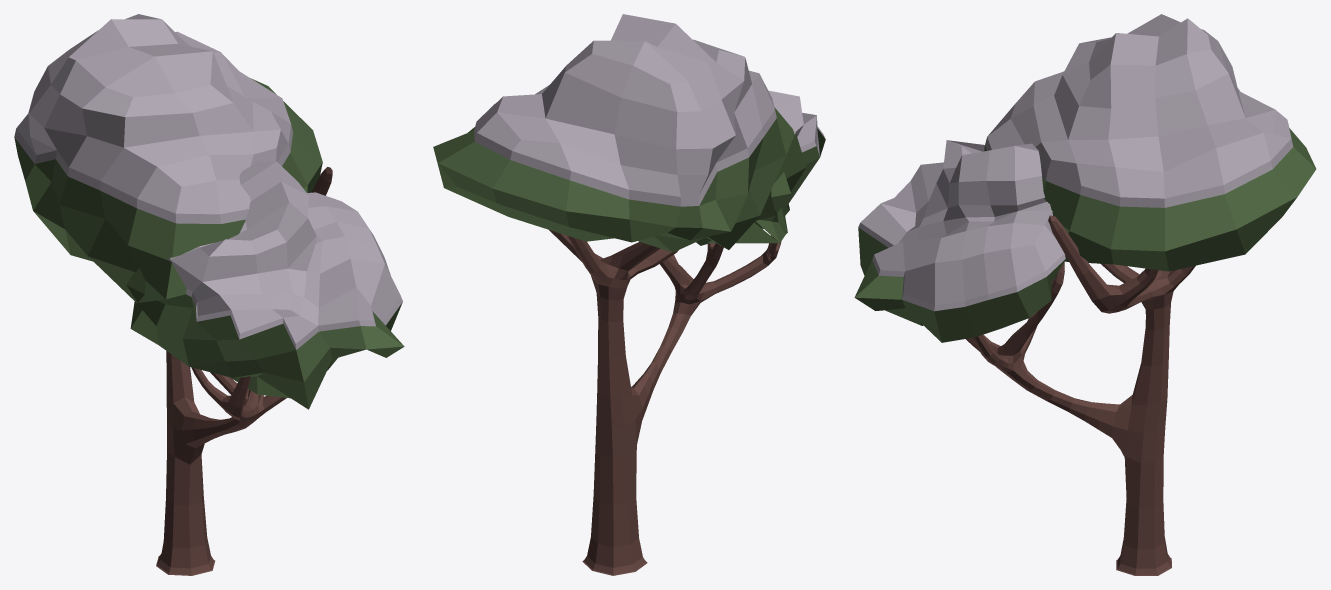
File: CommonTree_Snow_2.glb
The picture shows the model from 3 angles, left to right: view 1: azimuth 30°, elevation 25°; view 2: azimuth 150°, elevation 25°; view 3: azimuth 270°, elevation 25°; orthographic projection. The views are drawn at different scales.
Visible parts, largest first — view 1: CommonTree_Snow_2_Cube.128; view 2: CommonTree_Snow_2_Cube.128; view 3: CommonTree_Snow_2_Cube.128.
Part boxes in pixels (bbox=[...]): CommonTree_Snow_2_Cube.128: bbox=[14, 14, 404, 575]; CommonTree_Snow_2_Cube.128: bbox=[433, 14, 825, 575]; CommonTree_Snow_2_Cube.128: bbox=[854, 14, 1316, 575].
Size of the model in its own units: 1.66 by 3.16 by 2.54.
